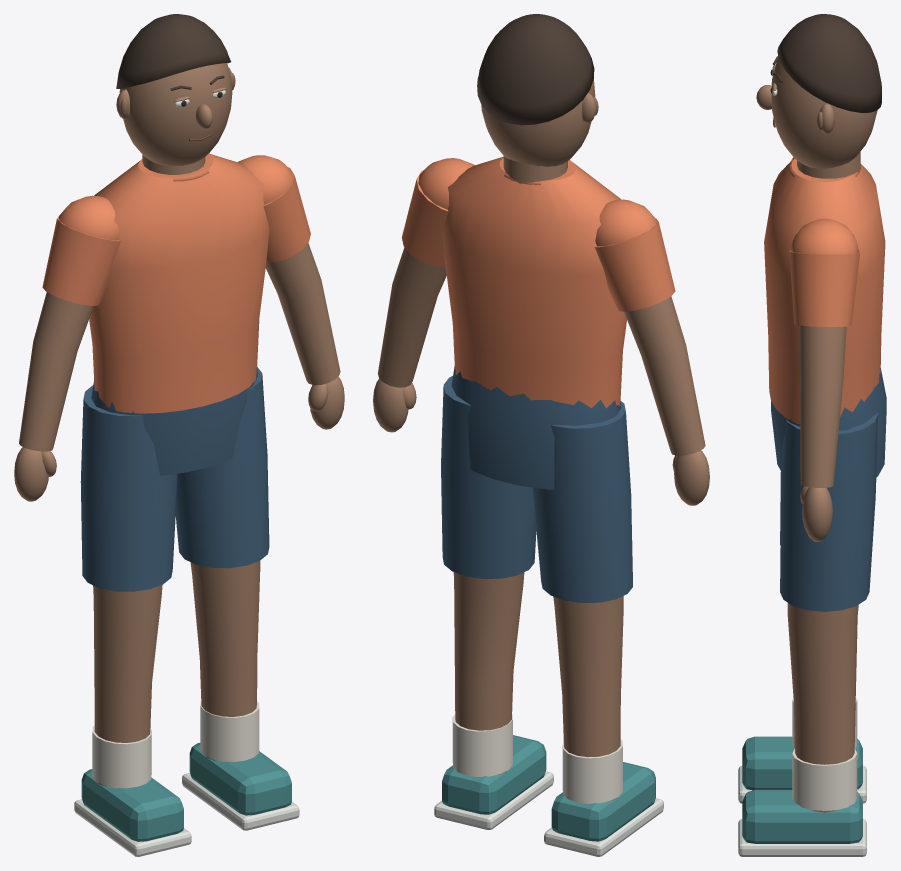
Rendered from person_sporty_shorts.glb.
The picture shows the model from 3 angles, left to right: view 1: azimuth 30°, elevation 25°; view 2: azimuth 150°, elevation 25°; view 3: azimuth 270°, elevation 25°; orthographic projection.
Visible parts, largest first — view 1: Sporty_Adult_Torso_And_Main_Clothes, Sporty_Adult_Shorts_Leg, Sporty_Adult_Shorts_Leg.001, Sporty_Adult_Bare_Leg, Sporty_Adult_Bare_Leg.001, Sporty_Adult_Head, Sporty_Adult_Arm_Skin, Sporty_Adult_Connected_Hip_Garment, Sporty_Adult_Arm_Skin.001, Sporty_Adult_Hair_Cap, Sporty_Adult_Shoe_Upper, Sporty_Adult_Shoe_Upper.001 (+10 smaller); view 2: Sporty_Adult_Torso_And_Main_Clothes, Sporty_Adult_Shorts_Leg, Sporty_Adult_Shorts_Leg.001, Sporty_Adult_Hair_Cap, Sporty_Adult_Bare_Leg, Sporty_Adult_Bare_Leg.001, Sporty_Adult_Connected_Hip_Garment, Sporty_Adult_Arm_Skin, Sporty_Adult_Arm_Skin.001, Sporty_Adult_Short_Sleeve, Sporty_Adult_Shoe_Upper, Sporty_Adult_Shoe_Upper.001 (+11 smaller); view 3: Sporty_Adult_Torso_And_Main_Clothes, Sporty_Adult_Shorts_Leg.001, Sporty_Adult_Bare_Leg.001, Sporty_Adult_Hair_Cap, Sporty_Adult_Arm_Skin.001, Sporty_Adult_Head, Sporty_Adult_Shoe_Upper.001, Sporty_Adult_Short_Sleeve.001, Sporty_Adult_Ankle_Sock.001, Sporty_Adult_Shoe_Upper, Sporty_Adult_Connected_Hip_Garment, Sporty_Adult_Rounded_Shoulder_Cloth.001 (+6 smaller).
Part boxes in pixels (bbox=[...]): Sporty_Adult_Torso_And_Main_Clothes: bbox=[89, 153, 269, 413]; Sporty_Adult_Shorts_Leg: bbox=[80, 385, 177, 591]; Sporty_Adult_Shorts_Leg.001: bbox=[175, 367, 269, 568]; Sporty_Adult_Bare_Leg: bbox=[93, 584, 162, 786]; Sporty_Adult_Bare_Leg.001: bbox=[190, 561, 260, 760]; Sporty_Adult_Head: bbox=[119, 63, 232, 166]; Sporty_Adult_Arm_Skin: bbox=[19, 292, 93, 451]; Sporty_Adult_Connected_Hip_Garment: bbox=[91, 368, 257, 475]; Sporty_Adult_Arm_Skin.001: bbox=[265, 243, 340, 385]; Sporty_Adult_Hair_Cap: bbox=[116, 14, 230, 88]; Sporty_Adult_Shoe_Upper: bbox=[81, 769, 183, 841]; Sporty_Adult_Shoe_Upper.001: bbox=[189, 742, 291, 815]; Sporty_Adult_Torso_And_Main_Clothes: bbox=[442, 156, 626, 408]; Sporty_Adult_Shorts_Leg: bbox=[532, 401, 632, 602]; Sporty_Adult_Shorts_Leg.001: bbox=[441, 376, 536, 578]; Sporty_Adult_Hair_Cap: bbox=[477, 14, 594, 125]; Sporty_Adult_Bare_Leg: bbox=[553, 596, 623, 801]; Sporty_Adult_Bare_Leg.001: bbox=[453, 572, 524, 774]; Sporty_Adult_Connected_Hip_Garment: bbox=[451, 365, 621, 489]; Sporty_Adult_Arm_Skin: bbox=[624, 296, 705, 455]; Sporty_Adult_Arm_Skin.001: bbox=[377, 247, 446, 387]; Sporty_Adult_Short_Sleeve: bbox=[594, 218, 675, 311]; Sporty_Adult_Shoe_Upper: bbox=[551, 762, 655, 841]; Sporty_Adult_Shoe_Upper.001: bbox=[442, 735, 546, 814]; Sporty_Adult_Torso_And_Main_Clothes: bbox=[764, 158, 885, 424]; Sporty_Adult_Shorts_Leg.001: bbox=[780, 413, 878, 611]; Sporty_Adult_Bare_Leg.001: bbox=[787, 603, 858, 812]; Sporty_Adult_Hair_Cap: bbox=[777, 14, 881, 112]; Sporty_Adult_Arm_Skin.001: bbox=[799, 325, 846, 487]; Sporty_Adult_Head: bbox=[771, 57, 877, 168]; Sporty_Adult_Shoe_Upper.001: bbox=[742, 789, 862, 843]; Sporty_Adult_Short_Sleeve.001: bbox=[789, 250, 859, 326]; Sporty_Adult_Ankle_Sock.001: bbox=[792, 748, 857, 810]; Sporty_Adult_Shoe_Upper: bbox=[742, 736, 862, 790]; Sporty_Adult_Connected_Hip_Garment: bbox=[771, 368, 886, 477]; Sporty_Adult_Rounded_Shoulder_Cloth.001: bbox=[790, 218, 858, 254].
Size of the model in its own units: 0.688 by 1.59 by 0.2669.
